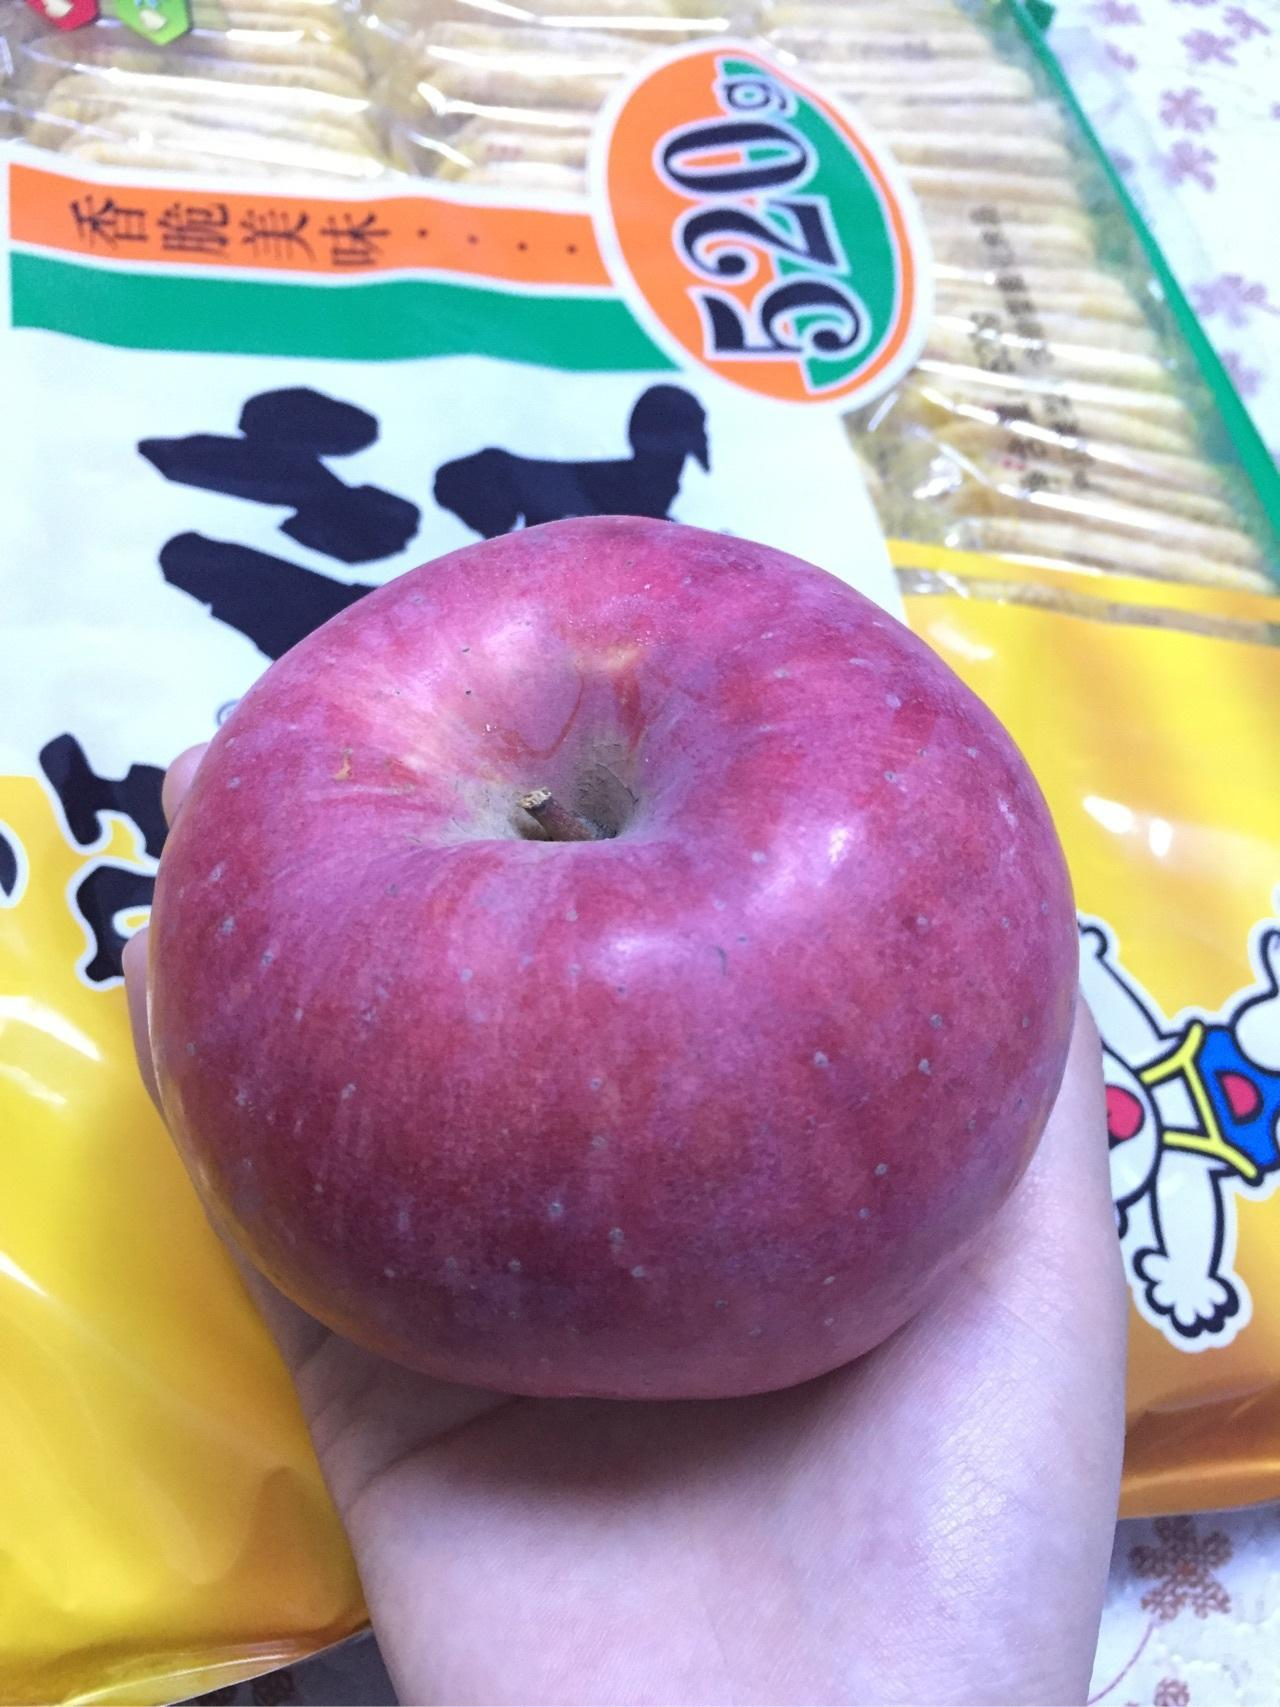apple: (124, 505, 1078, 1433)
